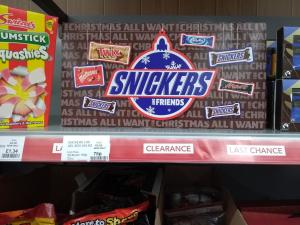snickers: (106, 70, 212, 94), (108, 70, 212, 94)
